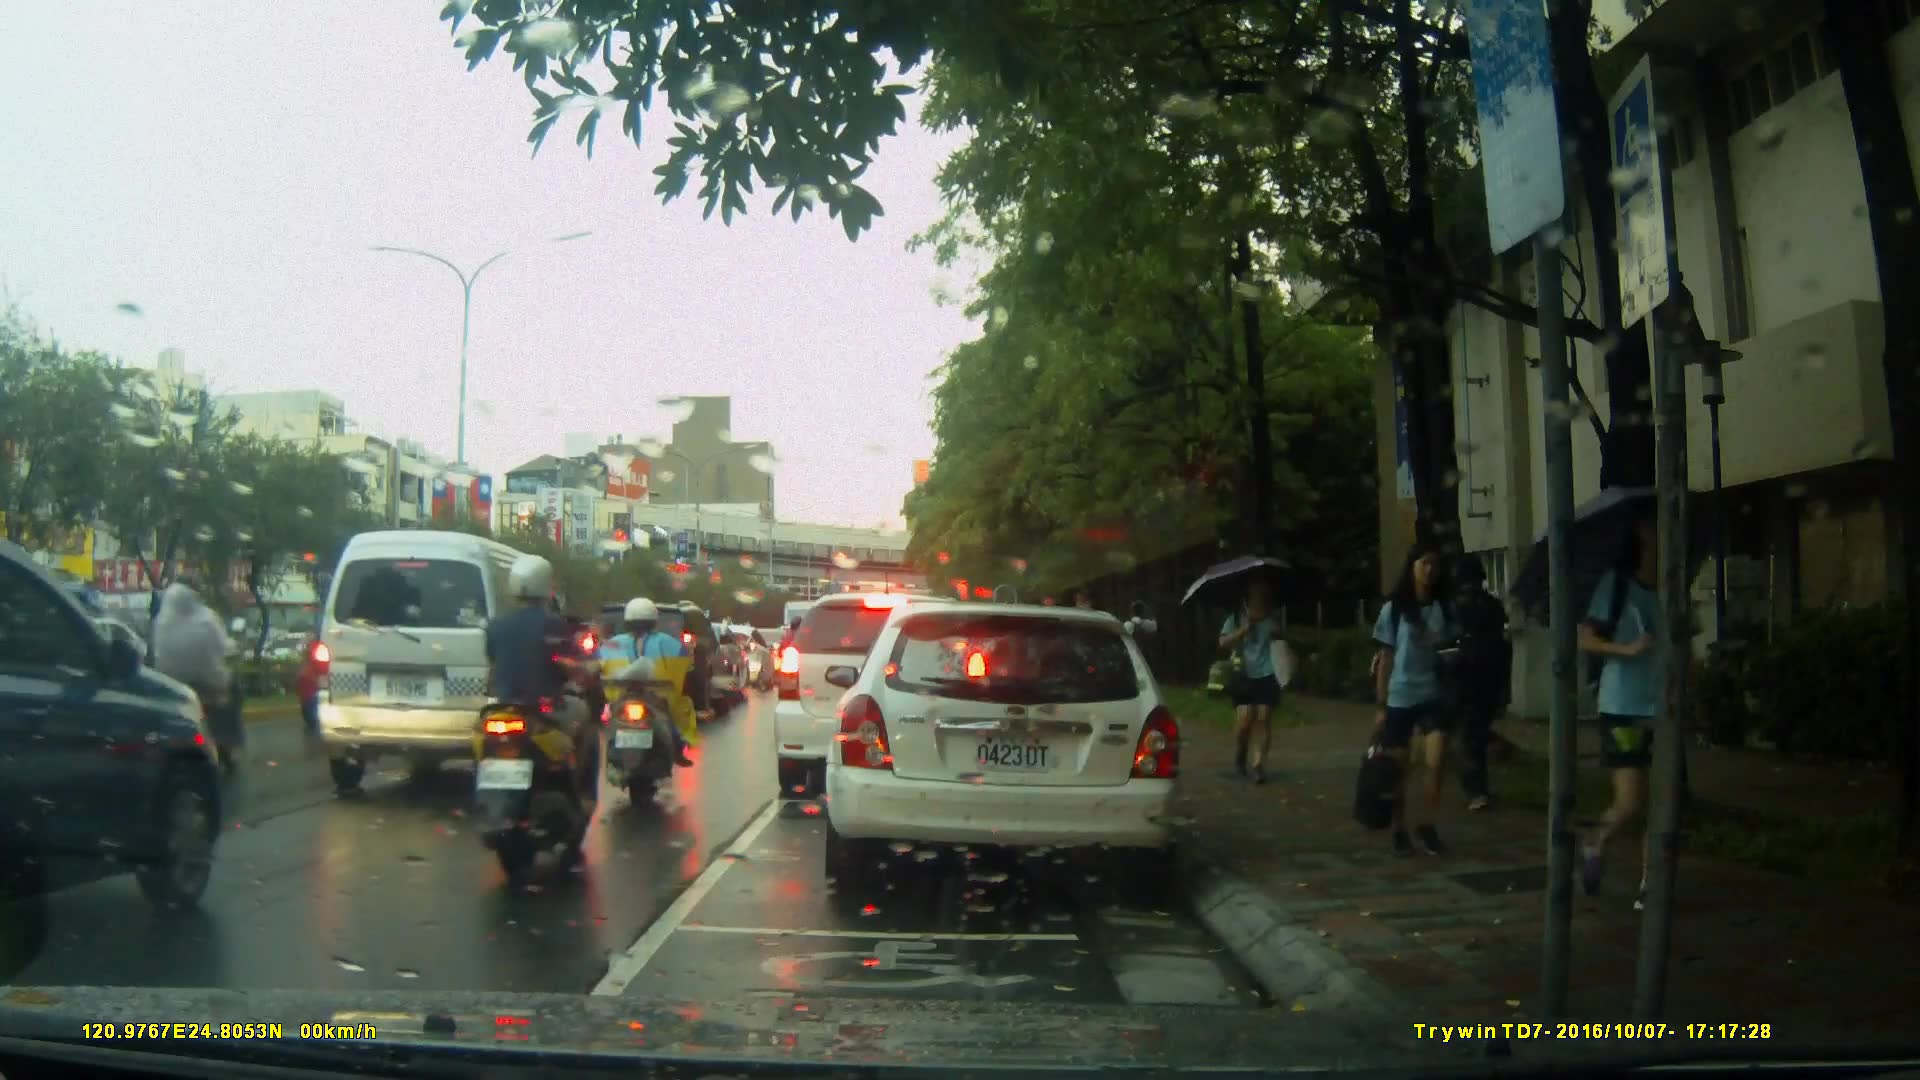pedestrian: (1570, 499, 1727, 933), (1363, 536, 1478, 883), (1436, 549, 1533, 825), (1205, 569, 1297, 793)
rider: (474, 552, 604, 877), (149, 568, 255, 783), (594, 598, 698, 800)
vehicle: (815, 593, 1204, 909), (4, 533, 228, 967), (314, 528, 578, 797), (770, 590, 994, 802), (579, 603, 737, 725)
